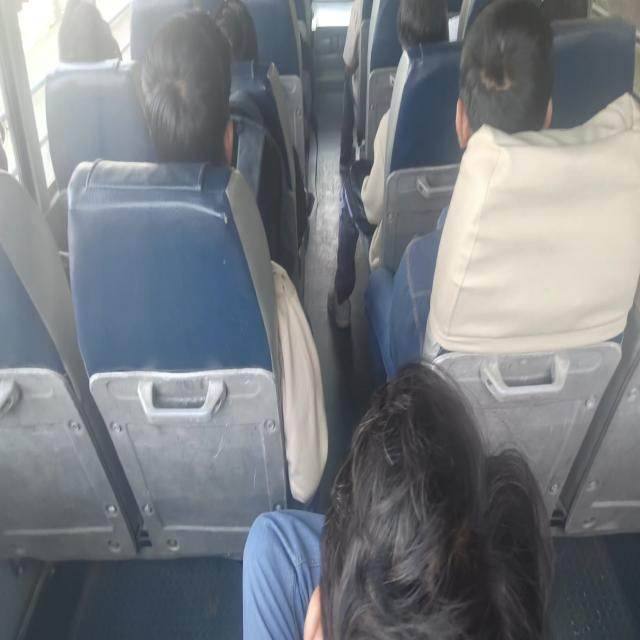person: (140, 8, 328, 504), (242, 359, 554, 638), (380, 0, 555, 378), (327, 0, 450, 330), (213, 0, 314, 249), (140, 8, 234, 166), (57, 0, 122, 64), (213, 0, 258, 62)
